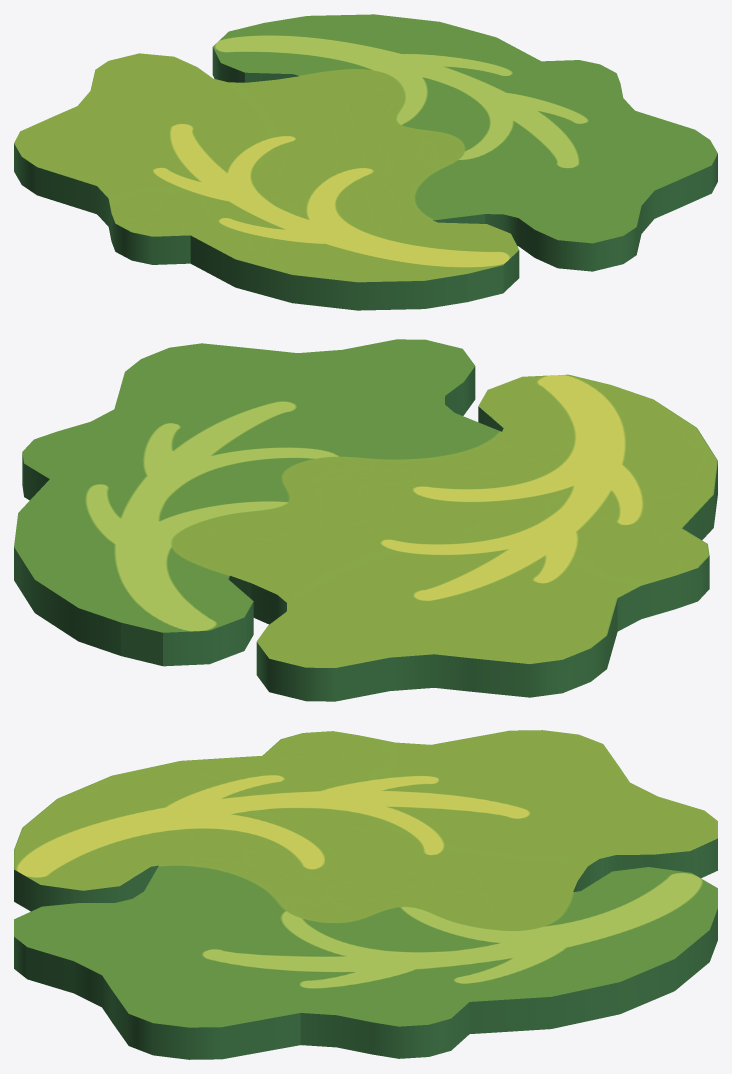
Rendered from Lettuce_Slice.glb.
The picture shows the model from 3 angles, top to bottom: view 1: azimuth 30°, elevation 25°; view 2: azimuth 150°, elevation 25°; view 3: azimuth 270°, elevation 25°; orthographic projection. The views are drawn at different scales.
Parts seen in each view (by area): view 1: Lettuce_Slice; view 2: Lettuce_Slice; view 3: Lettuce_Slice.
Boxes of the visible parts, x1=… form: Lettuce_Slice: x1=14, y1=14, x2=717, y2=310; Lettuce_Slice: x1=14, y1=339, x2=717, y2=701; Lettuce_Slice: x1=14, y1=730, x2=717, y2=1059.
Bounding box in the file's own units: 20 × 1.01 × 20.
Materials: 1 (1 with a texture image).
